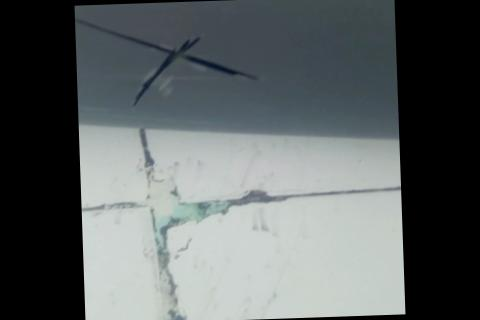keretakan: (75, 9, 264, 107)
